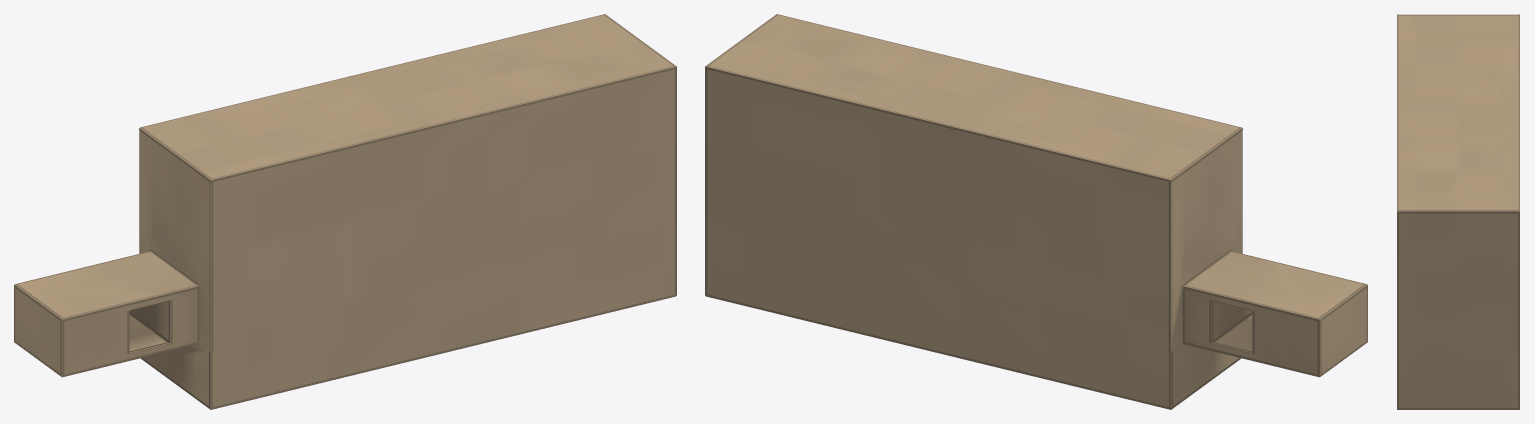
The model's file is beam-xp.glb.
3 views of the same model, side by side, from view 1: azimuth 30°, elevation 25°; view 2: azimuth 150°, elevation 25°; view 3: azimuth 270°, elevation 25° (orthographic). The views are drawn at different scales.
Parts seen in each view (by area): view 1: beam-xp; view 2: beam-xp; view 3: beam-xp.
Part boxes in pixels (left/top/right/bottom): beam-xp: left=14, top=14, right=676, bottom=409; beam-xp: left=705, top=14, right=1367, bottom=409; beam-xp: left=1397, top=14, right=1519, bottom=409.
Size of the model in its own units: 0.4408 by 0.1608 by 0.0908.
